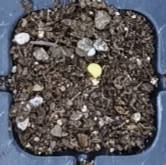pepper seed: (34, 23, 138, 102)
